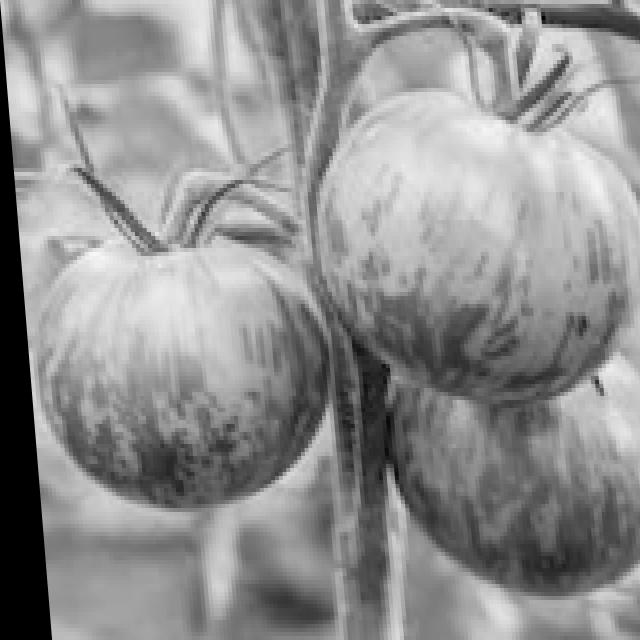yesil: (16, 24, 640, 600)
